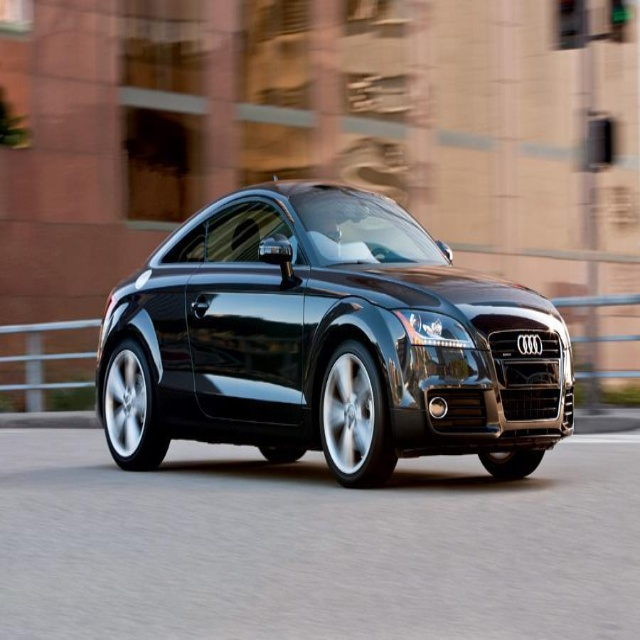Car: (95, 178, 575, 491)
